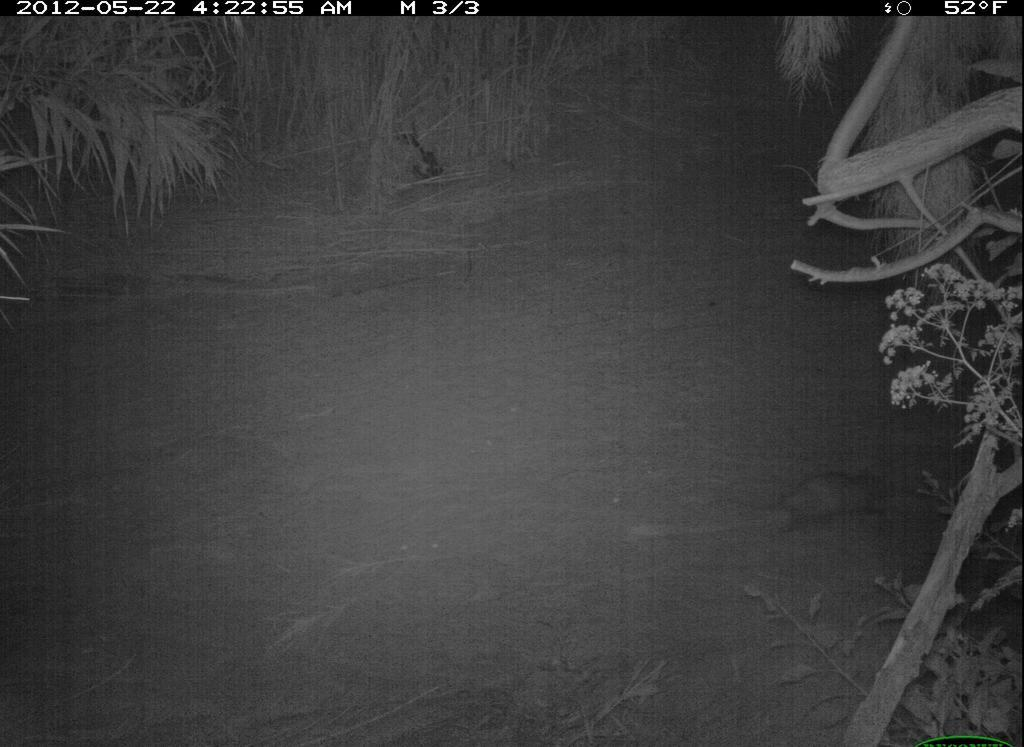opossum: (753, 461, 914, 543)
